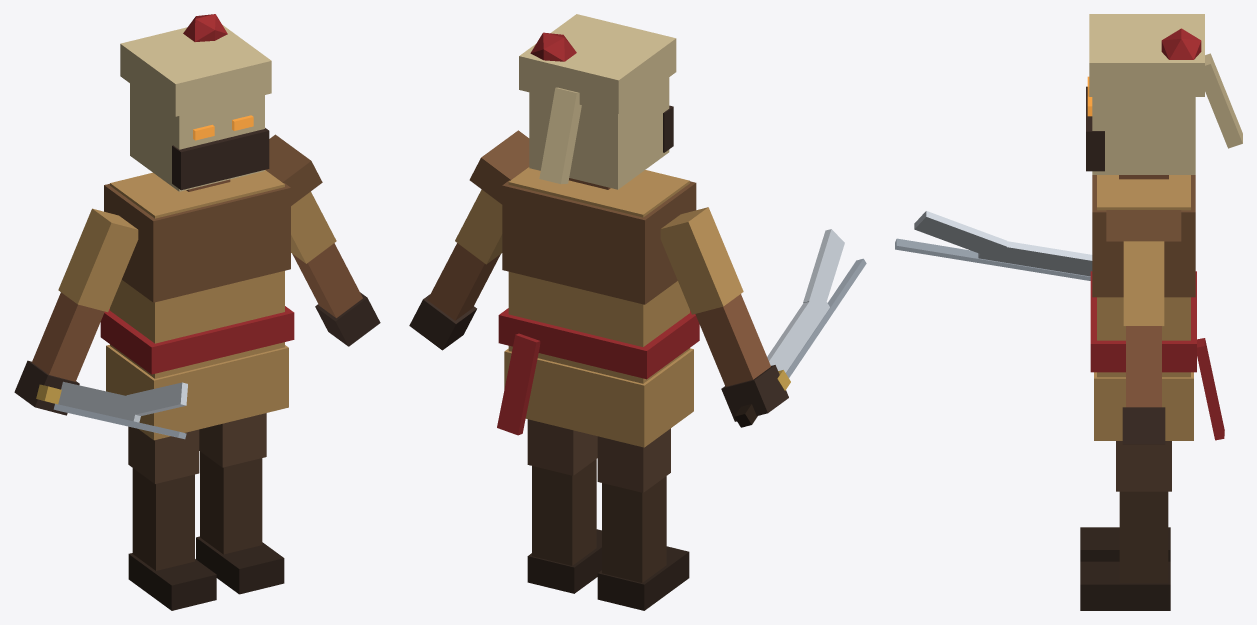
Rendered from BO_SK_Enemy_Grunt_v002.glb.
The picture shows the model from 3 angles, left to right: view 1: azimuth 30°, elevation 25°; view 2: azimuth 150°, elevation 25°; view 3: azimuth 270°, elevation 25°; orthographic projection. The views are drawn at different scales.
Visible parts, largest first — view 1: body_027, body_006, body_012, body_030, body_028, body_008, body_001, body_004, body_019, body_009, body_020, body_005 (+12 smaller); view 2: body_027, body_006, body_030, body_012, body_008, body_028, body_001, body_004, body_019, body_020, body_003, body_000 (+13 smaller); view 3: body_012, body_008, body_006, body_027, body_001, body_030, body_015, body_002, body_028, body_016, body_000, body_018 (+9 smaller).
Boxes of the visible parts, box(x1,y1,x2,y2) form: body_027: box(104, 183, 290, 302); body_006: box(110, 170, 284, 378); body_012: box(120, 25, 271, 116); body_030: box(106, 344, 288, 440); body_028: box(100, 306, 294, 374); body_008: box(130, 83, 264, 191); body_001: box(200, 451, 262, 554); body_004: box(132, 468, 194, 570); body_019: box(58, 208, 138, 312); body_009: box(172, 128, 269, 190); body_020: box(32, 292, 104, 381); body_005: box(128, 553, 216, 610); body_027: box(502, 180, 696, 304); body_006: box(508, 167, 689, 383); body_030: box(504, 348, 693, 447); body_012: box(519, 14, 676, 113); body_008: box(529, 77, 669, 189); body_028: box(498, 308, 699, 379); body_001: box(532, 459, 596, 565); body_004: box(602, 476, 666, 582); body_019: box(660, 207, 743, 314); body_020: box(695, 294, 770, 386); body_003: box(597, 428, 670, 492); body_000: box(527, 419, 597, 475); body_012: box(1089, 14, 1204, 96); body_008: box(1092, 97, 1195, 174); body_006: box(1097, 175, 1190, 377); body_027: box(1092, 175, 1195, 297); body_001: box(1119, 491, 1168, 582); body_030: box(1094, 372, 1193, 440); body_015: box(1123, 241, 1164, 326); body_002: box(1080, 561, 1170, 610); body_028: box(1090, 271, 1196, 372); body_016: box(1126, 326, 1161, 407); body_000: box(1116, 441, 1171, 491); body_018: box(1106, 210, 1181, 241).
Size of the model in its own units: 1.33 by 1.98 by 1.11.
